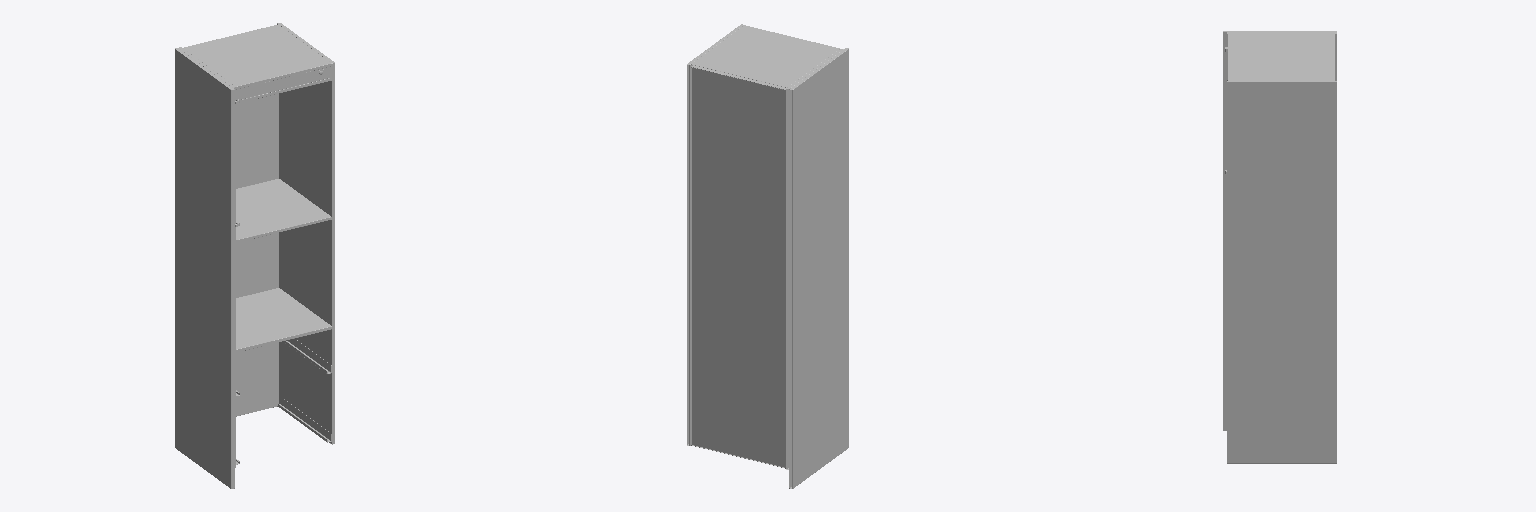
The model's file is Kitchen01Base.obj.
The picture shows the model from 3 angles: view 1: azimuth 30°, elevation 25°; view 2: azimuth 150°, elevation 25°; view 3: azimuth 270°, elevation 25°; orthographic projection.
Visible parts, largest first — view 1: SM_Kitchen_01_Base_8; view 2: SM_Kitchen_01_Base_8; view 3: SM_Kitchen_01_Base_8.
Boxes of the visible parts, x1,y1,x2,y2 form: SM_Kitchen_01_Base_8: [175, 23, 334, 488]; SM_Kitchen_01_Base_8: [687, 24, 848, 488]; SM_Kitchen_01_Base_8: [1223, 31, 1336, 463].
Size of the model in its own units: 61.99 by 223 by 57.59.